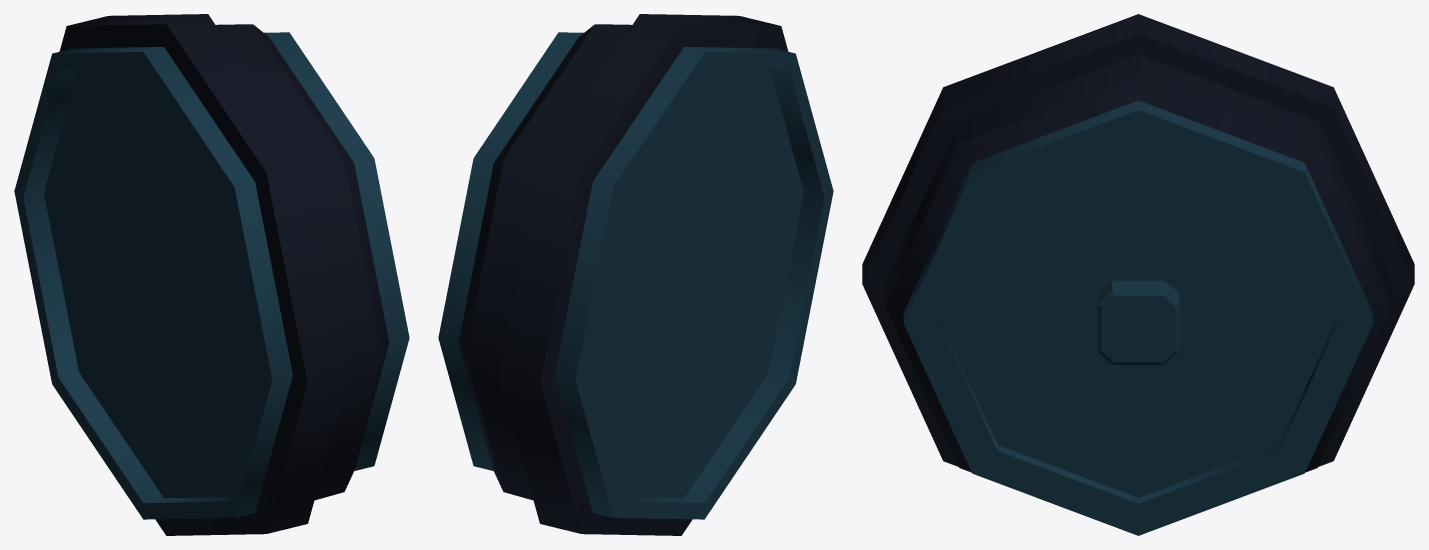
Rendered from PipeSmall_Connector_EndCap.fbx.
The picture shows the model from 3 angles, left to right: view 1: azimuth 30°, elevation 25°; view 2: azimuth 150°, elevation 25°; view 3: azimuth 270°, elevation 25°; orthographic projection. The views are drawn at different scales.
Parts seen in each view (by area): view 1: PipeSmall_Connector_EndCap.001; view 2: PipeSmall_Connector_EndCap.001; view 3: PipeSmall_Connector_EndCap.001.
Part boxes in pixels (x1=…): PipeSmall_Connector_EndCap.001: x1=14, y1=14, x2=409, y2=535; PipeSmall_Connector_EndCap.001: x1=438, y1=14, x2=833, y2=535; PipeSmall_Connector_EndCap.001: x1=862, y1=14, x2=1414, y2=535.
Bounding box in the file's own units: 0.0384 × 0.1184 × 0.1184.
